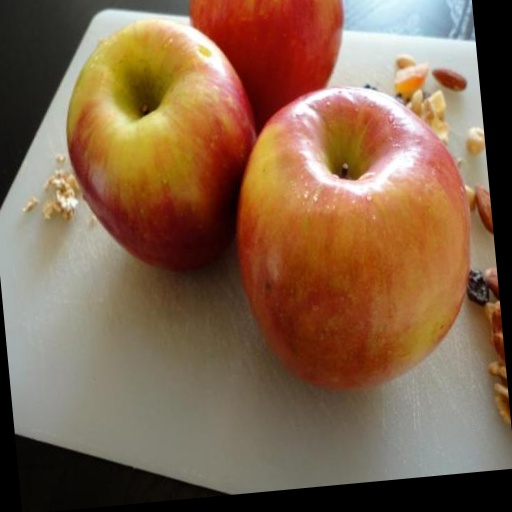fruit: (237, 88, 470, 388), (67, 20, 255, 269)
